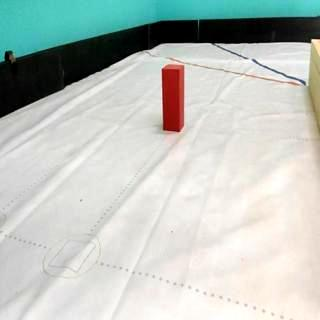redbox: (162, 62, 184, 132)
